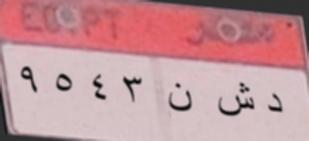3: (117, 70, 144, 108)
4: (87, 68, 111, 107)
5: (50, 68, 78, 101)
9: (17, 63, 42, 102)
daal: (262, 84, 287, 121)
noon: (164, 79, 196, 118)
sheen: (217, 78, 258, 124)
